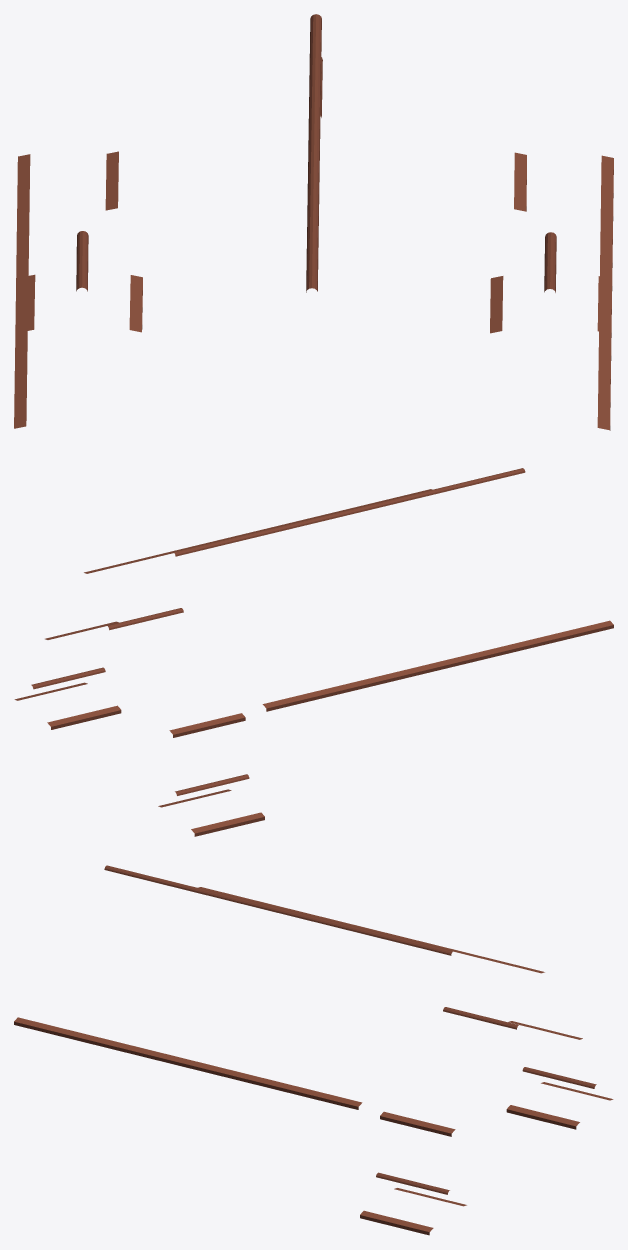
3 renders of one model, top to bottom at view 1: azimuth 30°, elevation 25°; view 2: azimuth 150°, elevation 25°; view 3: azimuth 270°, elevation 25°, orthographic. The views are drawn at different scales.
Visible parts, largest first — view 1: detail; view 2: detail; view 3: detail.
Boxes of the visible parts, x1,y1,x2,y2 form: detail: (14,14,613,430); detail: (14,468,613,836); detail: (14,865,613,1235).
Size of the model in its own units: 23.26 by 9.31 by 24.94.
